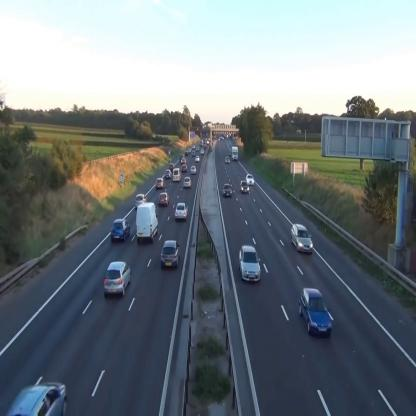car: (5, 382, 67, 416), (298, 288, 332, 337), (104, 260, 132, 297), (239, 246, 261, 284), (291, 223, 313, 254), (160, 240, 180, 270), (111, 219, 131, 243), (175, 203, 188, 221), (158, 192, 170, 207), (135, 194, 146, 209), (240, 180, 249, 194), (223, 184, 232, 197), (156, 178, 165, 190), (245, 174, 254, 184), (164, 169, 172, 178), (183, 178, 191, 186), (190, 166, 196, 174)
lorry: (136, 202, 158, 243), (172, 167, 181, 183), (232, 146, 238, 162)
